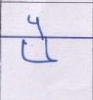ai_matra: (28, 15, 47, 36)
